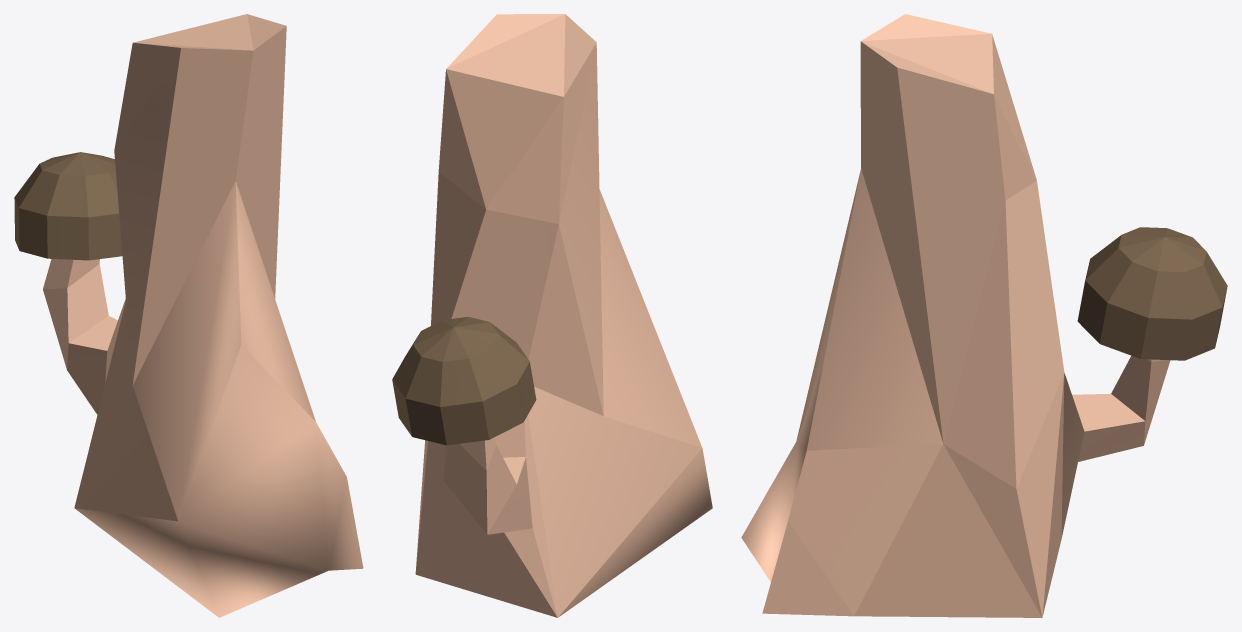
Rendered from Chr_LegRight_Male_00_Static.fbx.
3 views of the same model, side by side, from view 1: azimuth 30°, elevation 25°; view 2: azimuth 150°, elevation 25°; view 3: azimuth 270°, elevation 25° (orthographic). The views are drawn at different scales.
Visible parts, largest first — view 1: Null_Chr_LegRight_Male_00_Static; view 2: Null_Chr_LegRight_Male_00_Static; view 3: Null_Chr_LegRight_Male_00_Static.
Boxes of the visible parts, box(x1,y1,x2,y2) form: Null_Chr_LegRight_Male_00_Static: box(14, 14, 363, 617); Null_Chr_LegRight_Male_00_Static: box(392, 14, 712, 617); Null_Chr_LegRight_Male_00_Static: box(741, 14, 1227, 617).
Size of the model in its own units: 15.62 by 44.15 by 35.79.
